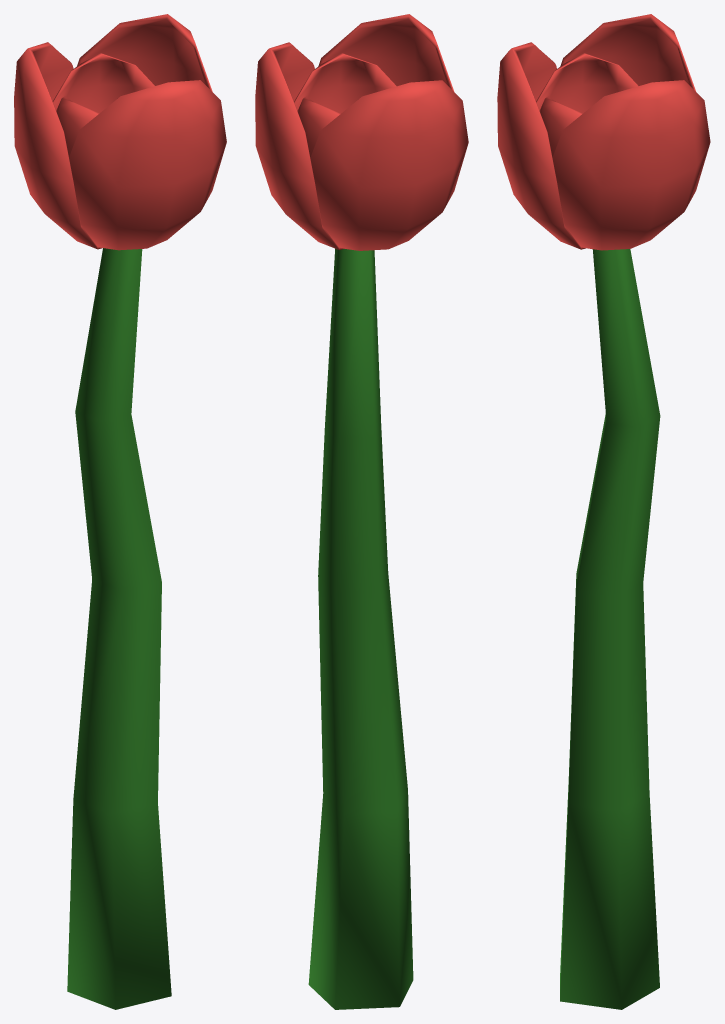
Rendered from GoodFlower.glb.
3 views of the same model, side by side, from view 1: azimuth 30°, elevation 25°; view 2: azimuth 150°, elevation 25°; view 3: azimuth 270°, elevation 25° (orthographic).
Parts seen in each view (by area): view 1: Cylinder.002, Sphere, Sphere.002, Sphere.001; view 2: Cylinder.002, Sphere.002, Sphere.001, Sphere; view 3: Cylinder.002, Sphere.001, Sphere, Sphere.002.
Part boxes in pixels (left/top/right/bottom): Cylinder.002: left=67, top=248, right=171, bottom=1009; Sphere: left=69, top=80, right=226, bottom=250; Sphere.002: left=14, top=42, right=102, bottom=249; Sphere.001: left=52, top=14, right=212, bottom=113; Cylinder.002: left=308, top=248, right=413, bottom=1009; Sphere.002: left=310, top=80, right=468, bottom=250; Sphere.001: left=255, top=42, right=343, bottom=249; Sphere: left=294, top=14, right=454, bottom=113; Cylinder.002: left=560, top=249, right=660, bottom=1009; Sphere.001: left=552, top=80, right=710, bottom=250; Sphere: left=497, top=42, right=585, bottom=249; Sphere.002: left=536, top=14, right=695, bottom=113.
Size of the model in its own units: 1.92 by 9.63 by 1.98.
